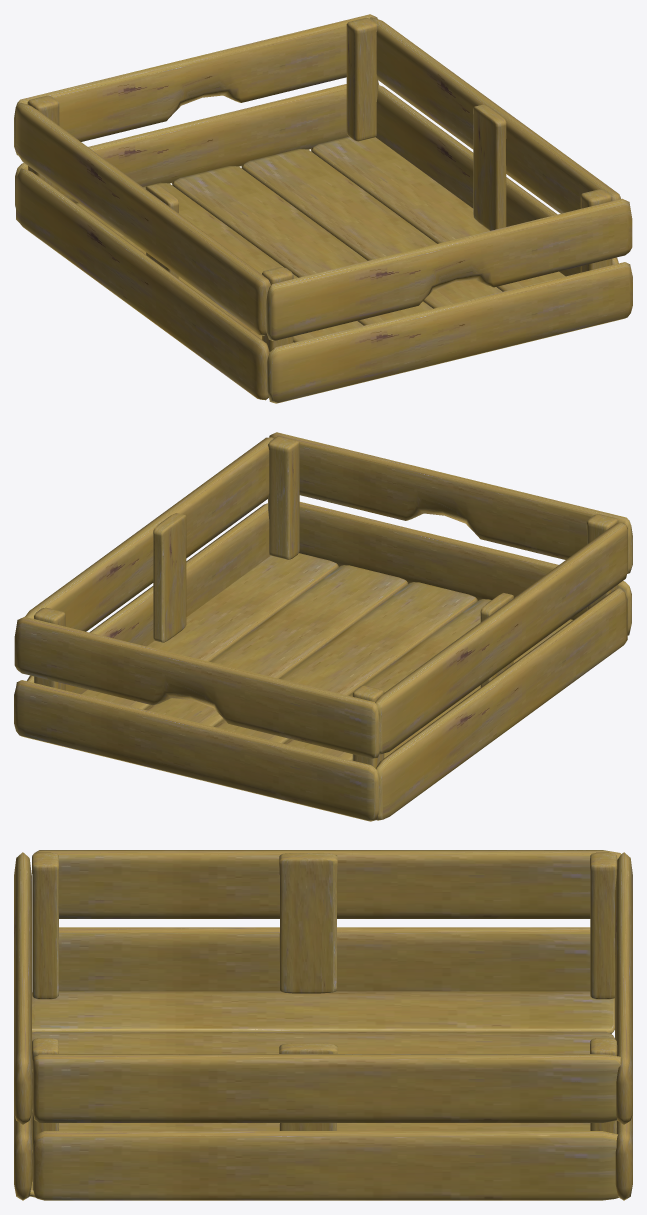
File: Crate.fbx
3 views of the same model, one above another, from view 1: azimuth 30°, elevation 25°; view 2: azimuth 150°, elevation 25°; view 3: azimuth 270°, elevation 25° (orthographic). The views are drawn at different scales.
Parts seen in each view (by area): view 1: Crate; view 2: Crate; view 3: Crate.
Boxes of the visible parts, <box> form: Crate: <box>14,14,632,403</box>; Crate: <box>14,432,632,821</box>; Crate: <box>14,850,632,1200</box>.
Size of the model in its own units: 3.02 by 0.9607 by 3.7.
1 material, 1 textured.
